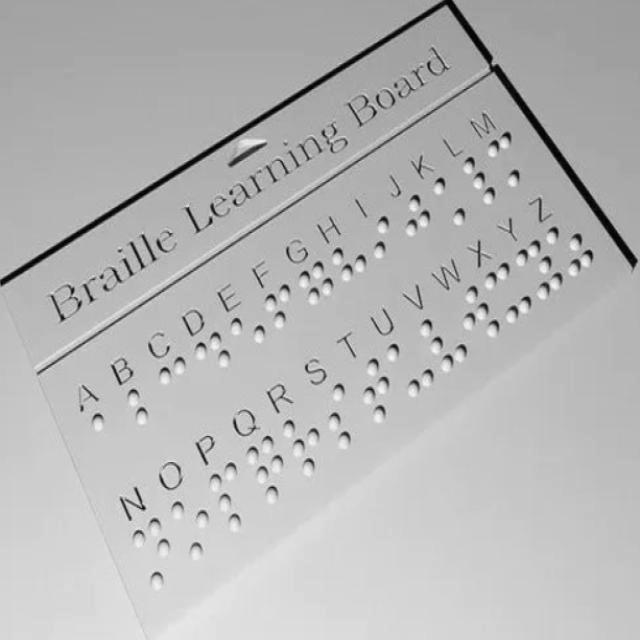braiile: (123, 506, 191, 600), (164, 481, 229, 569), (238, 425, 303, 511), (203, 454, 265, 542), (277, 403, 340, 484), (312, 375, 374, 457), (350, 351, 408, 433), (152, 350, 211, 430), (83, 395, 141, 476), (381, 327, 441, 405), (223, 301, 281, 381), (415, 303, 475, 380), (258, 276, 315, 357), (358, 210, 418, 284), (294, 253, 350, 331), (190, 325, 246, 403), (121, 372, 177, 450), (391, 187, 450, 261), (326, 233, 384, 307), (427, 163, 486, 235), (542, 212, 600, 285), (481, 257, 539, 330), (449, 280, 507, 353), (512, 233, 568, 307), (481, 124, 537, 195)
